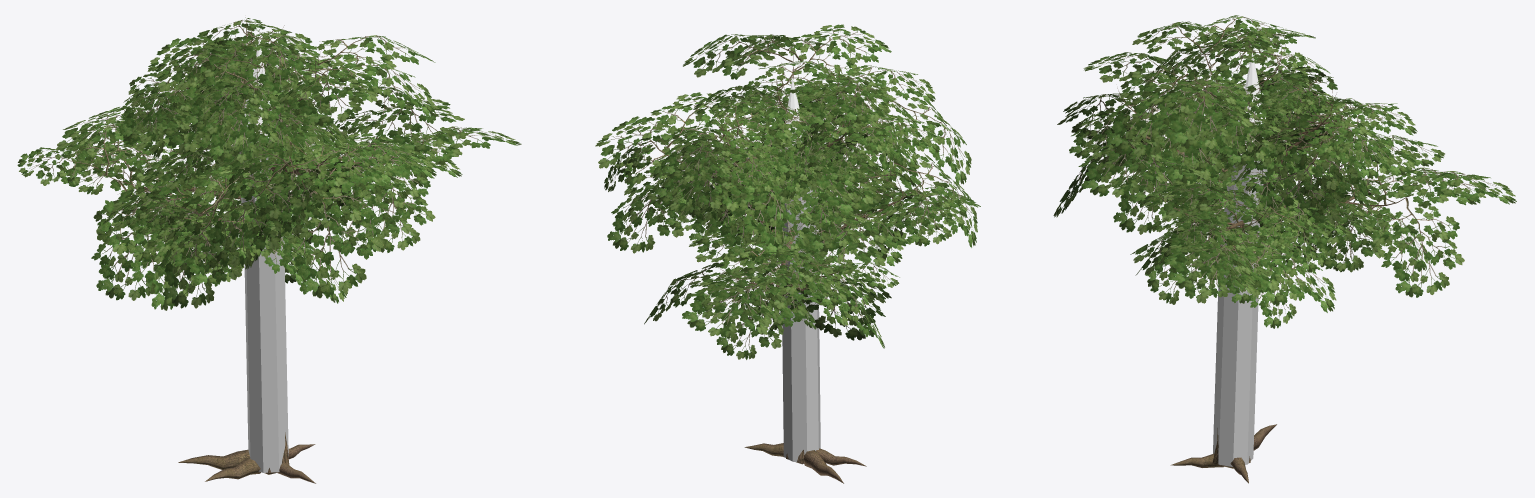
The model's file is Tree_3.dae.
3 renders of one model, left to right at view 1: azimuth 30°, elevation 25°; view 2: azimuth 150°, elevation 25°; view 3: azimuth 270°, elevation 25°, orthographic. The views are drawn at different scales.
Visible parts, largest first — view 1: leaf19d, col_1, branches4d; view 2: leaf19d, col_1, branches4d; view 3: leaf19d, col_1, branches4d.
Part boxes in pixels (<box>): leaf19d: <box>17,18,521,310</box>; col_1: <box>239,39,288,472</box>; branches4d: <box>93,17,393,483</box>; leaf19d: <box>595,24,980,359</box>; col_1: <box>780,78,820,461</box>; branches4d: <box>657,46,928,483</box>; leaf19d: <box>1053,15,1516,328</box>; col_1: <box>1213,52,1269,466</box>; branches4d: <box>1110,34,1410,483</box>.
Bounding box in the file's own units: 10.88 × 10.75 × 10.53.
Materials: 2 (2 with a texture image).
